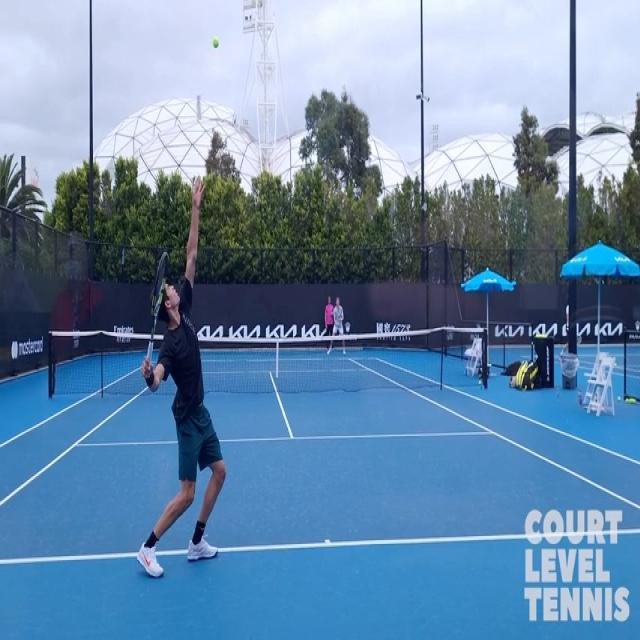serve_toss: (136, 176, 222, 573)
